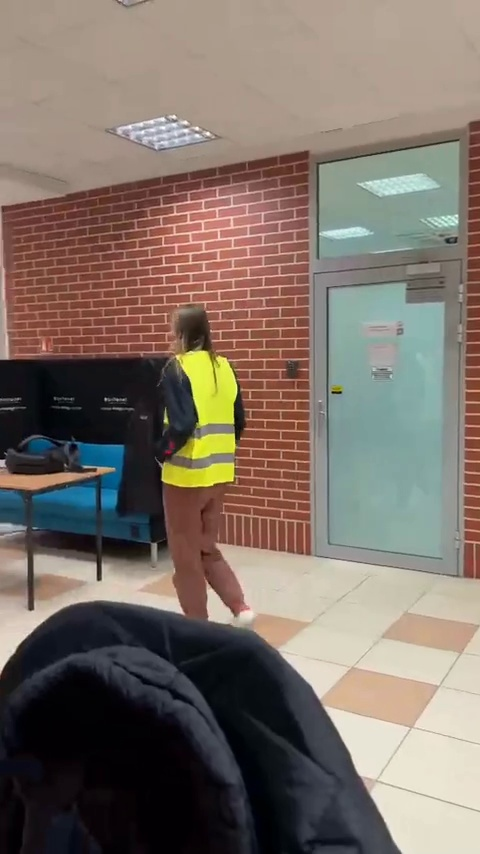vest: (146, 297, 259, 635)
